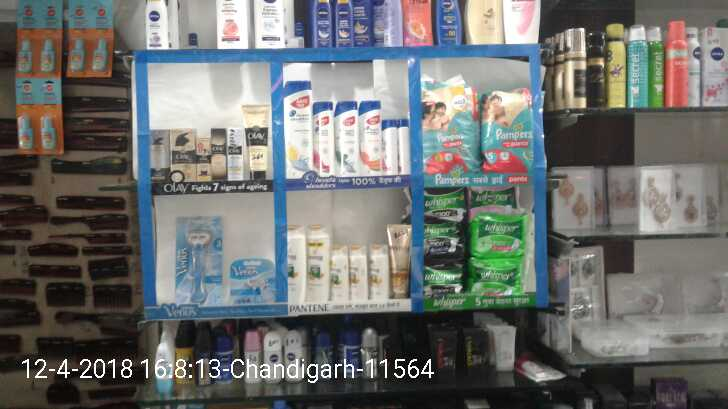venus: (173, 215, 223, 307), (231, 258, 275, 304)
